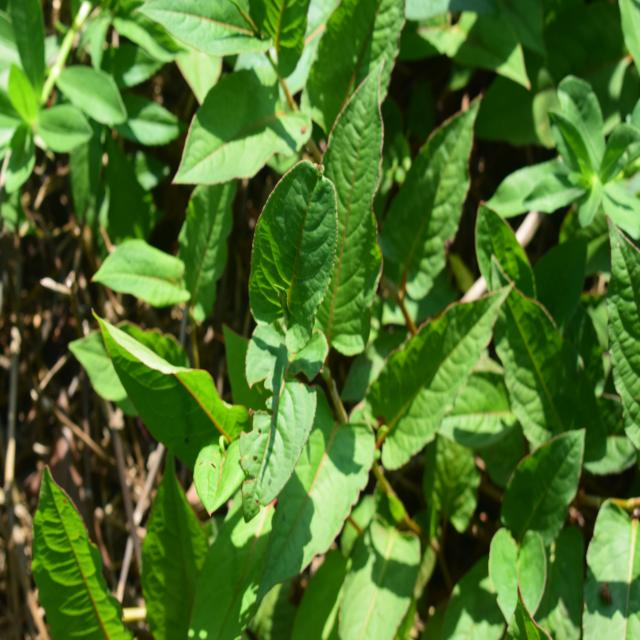Chinese_knotweed: (243, 60, 497, 548)
